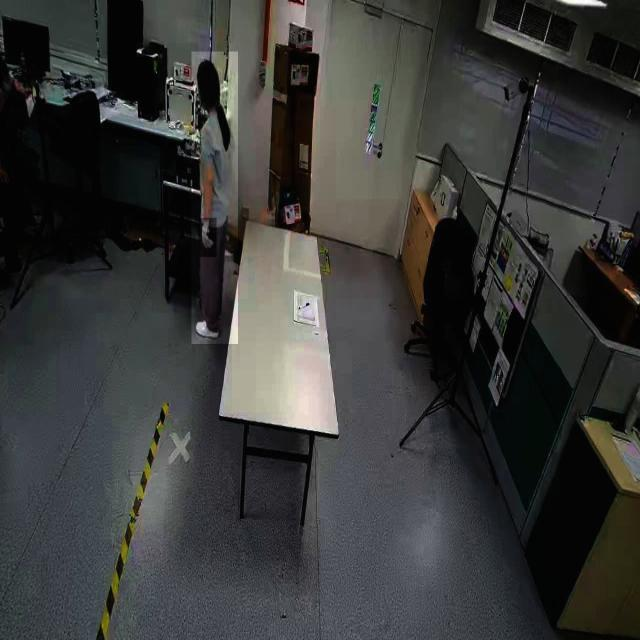hand_glove: (199, 218, 217, 258)
hand_noglove: (12, 74, 38, 100), (0, 161, 12, 191)
head_nohelmet: (195, 58, 219, 79)
person: (192, 51, 238, 345)
shoes: (194, 315, 223, 344)
